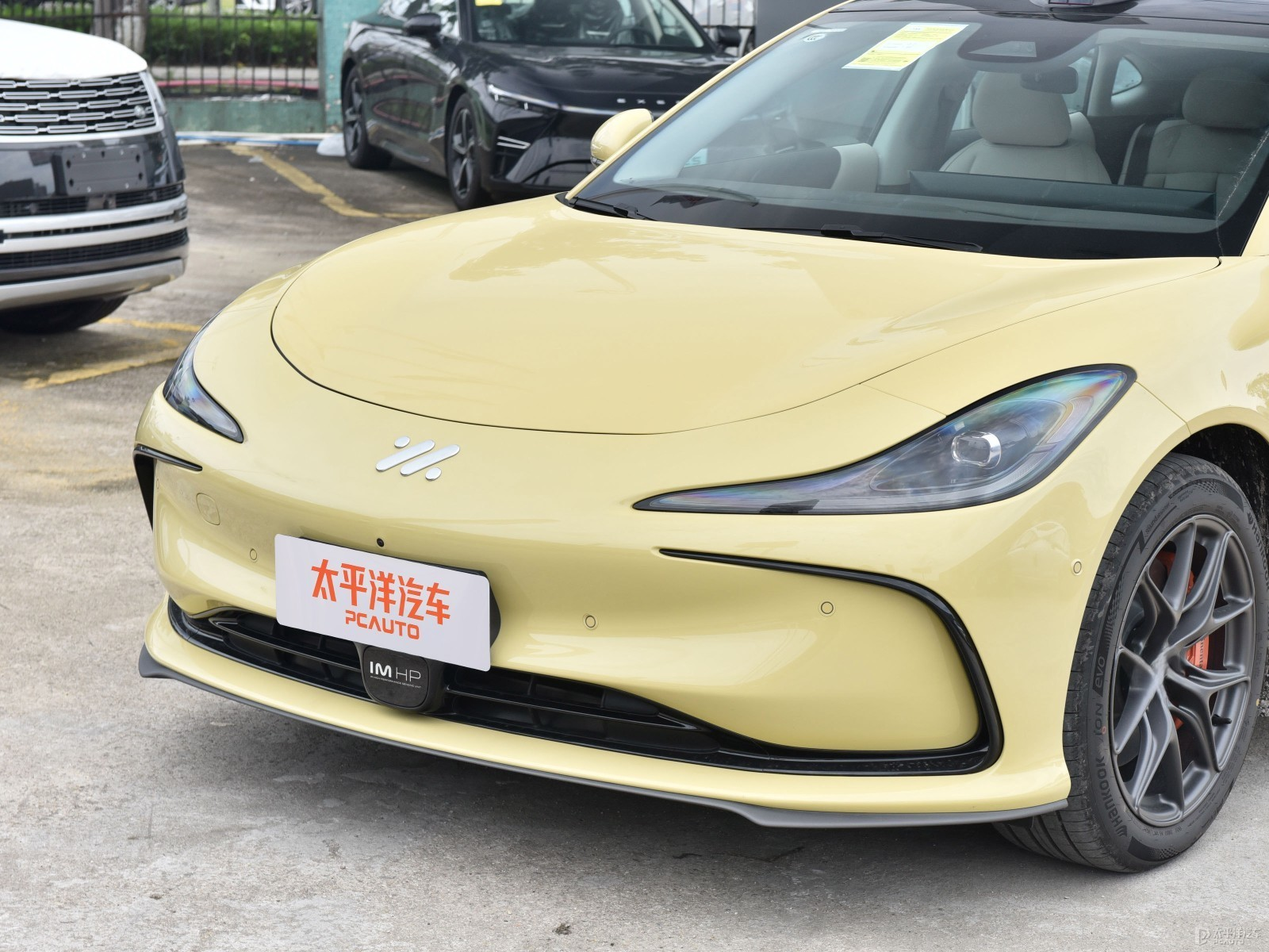IM: (376, 436, 460, 481)
